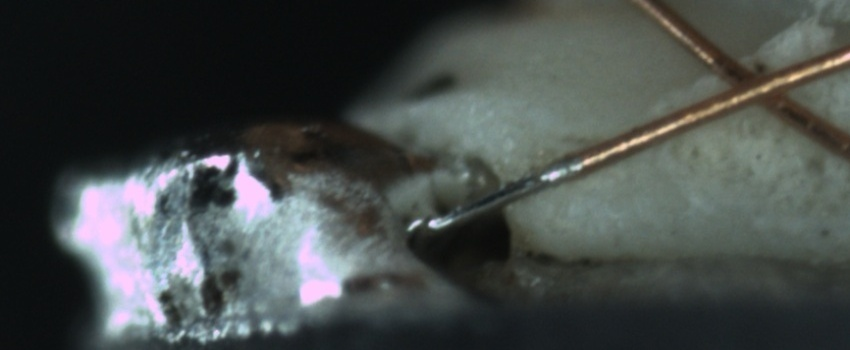CL: (693, 40, 823, 126)
TS: (418, 159, 585, 233)
